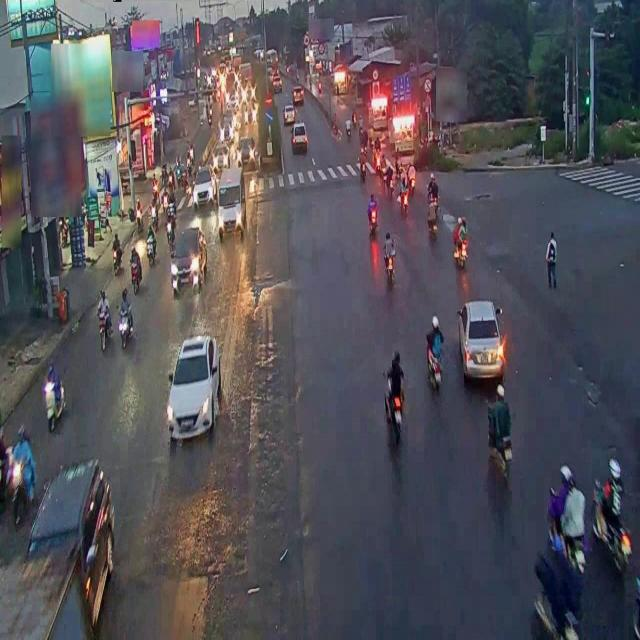car: (169, 333, 221, 435), (457, 297, 507, 380), (169, 227, 206, 288)
motorcycle: (544, 454, 594, 584), (486, 385, 514, 492), (8, 423, 36, 518), (383, 344, 409, 438), (42, 361, 66, 430), (426, 310, 445, 390), (116, 286, 136, 352), (451, 212, 471, 276), (94, 290, 110, 352), (381, 229, 399, 282)
truck: (217, 165, 244, 235)
